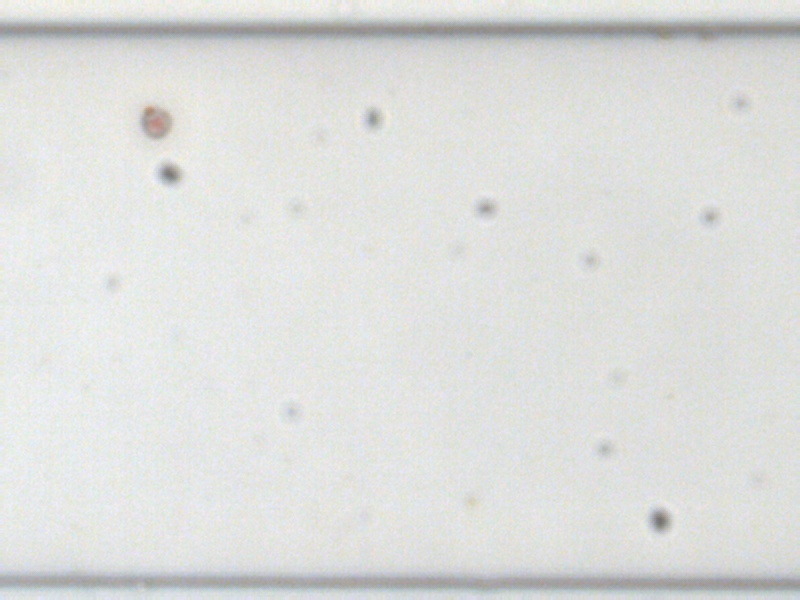Porphyridium: (135, 104, 172, 140)
